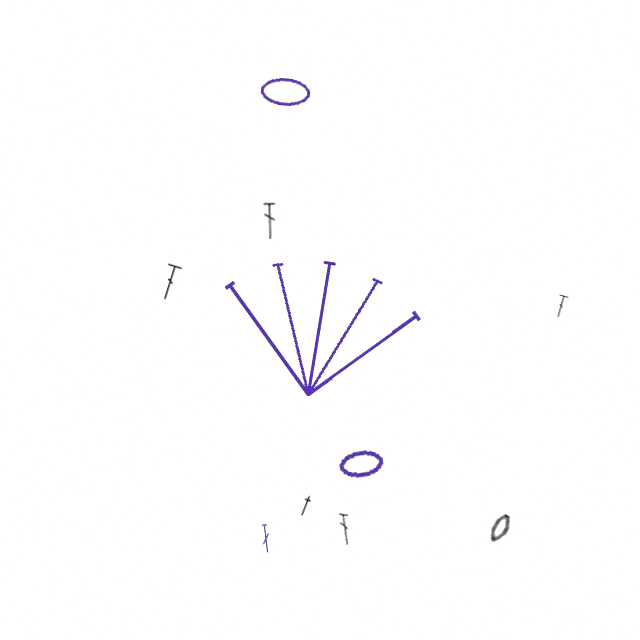chain: (337, 447, 386, 481), (259, 76, 311, 108), (485, 512, 514, 546)
double: (157, 262, 183, 303), (263, 202, 277, 240), (553, 294, 569, 319), (339, 513, 350, 545), (260, 524, 272, 553)
fan: (203, 224, 437, 415)
half_double: (296, 494, 315, 518)
